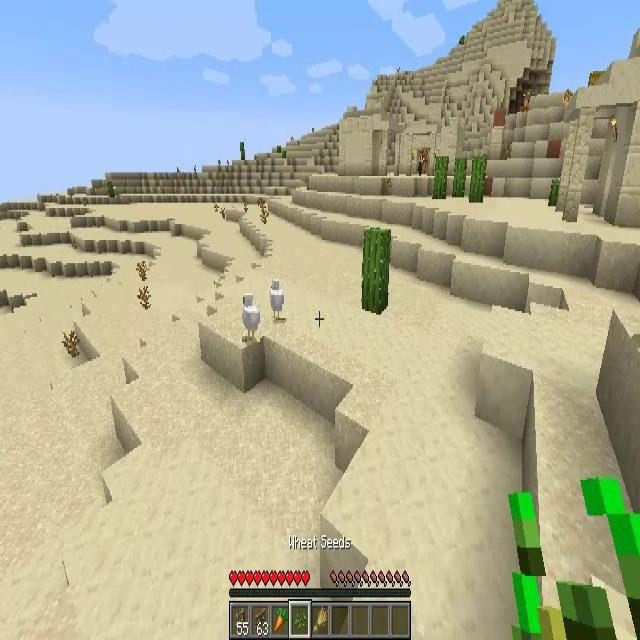duck: (242, 291, 260, 342), (270, 278, 286, 318)
